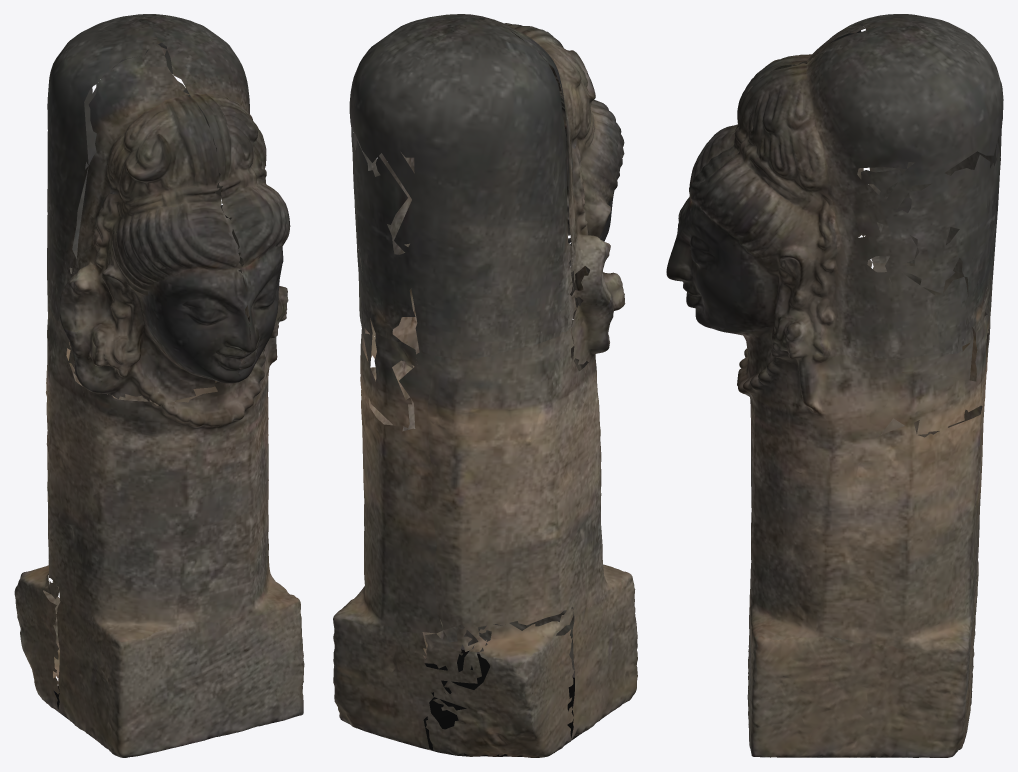
Rendered from ekamukhalinga-lo.glb.
3 renders of one model, left to right at view 1: azimuth 30°, elevation 25°; view 2: azimuth 150°, elevation 25°; view 3: azimuth 270°, elevation 25°, orthographic. The views are drawn at different scales.
Visible parts, largest first — view 1: Object_2, Object_3; view 2: Object_2, Object_3; view 3: Object_2, Object_3.
Part boxes in pixels (x1,y1,x2,y2): Object_2: [41, 14, 304, 757]; Object_3: [14, 44, 253, 711]; Object_2: [333, 14, 637, 757]; Object_3: [346, 18, 625, 757]; Object_2: [666, 14, 1003, 757]; Object_3: [668, 19, 1000, 757].
Size of the model in its own units: 0.2628 by 0.815 by 0.3618.
1 material, 1 textured.
